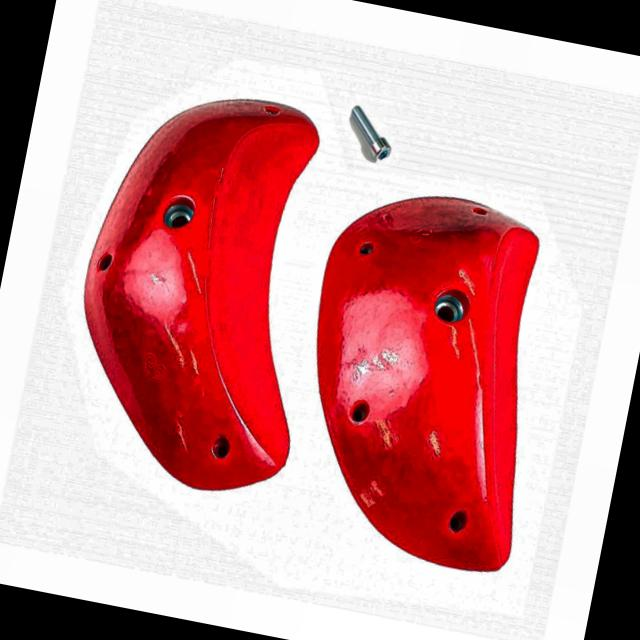Hold: (46, 68, 357, 506), (264, 170, 581, 586)
